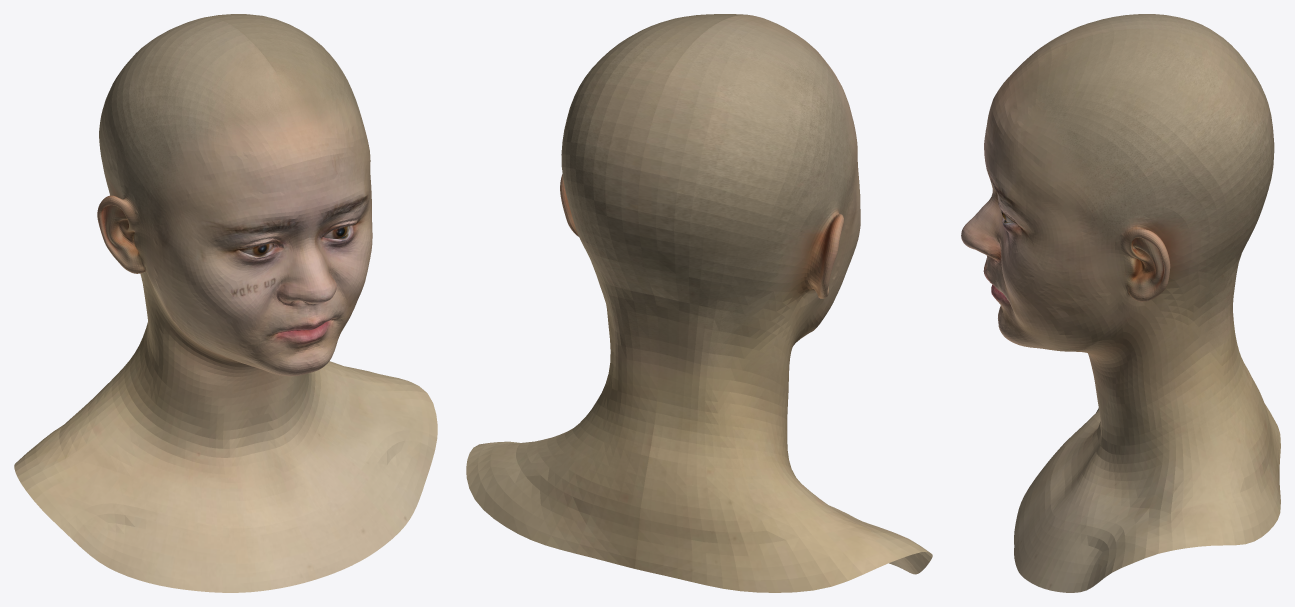
The picture shows the model from 3 angles, left to right: view 1: azimuth 30°, elevation 25°; view 2: azimuth 150°, elevation 25°; view 3: azimuth 270°, elevation 25°; orthographic projection. The views are drawn at different scales.
Parts seen in each view (by area): view 1: head_lod0_mesh; view 2: head_lod0_mesh; view 3: head_lod0_mesh.
Part boxes in pixels (x1,y1,x2,y2): head_lod0_mesh: (14,14,437,592); head_lod0_mesh: (466,14,932,592); head_lod0_mesh: (961,14,1280,592).
Bounding box in the file's own units: 29.88 × 36.29 × 20.3.
